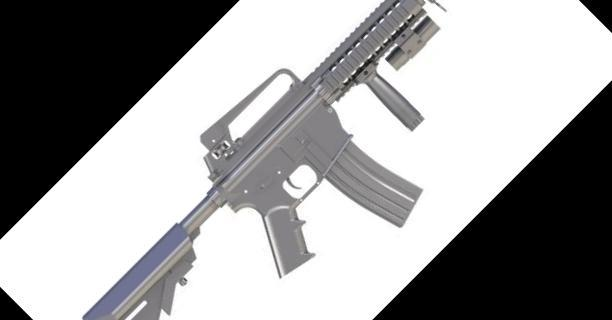larga: (82, 0, 446, 320)
